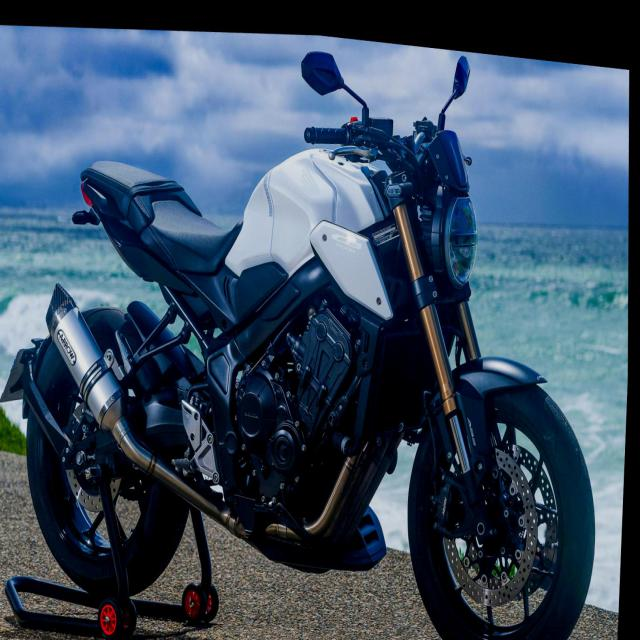CB650R: (0, 0, 620, 639)
